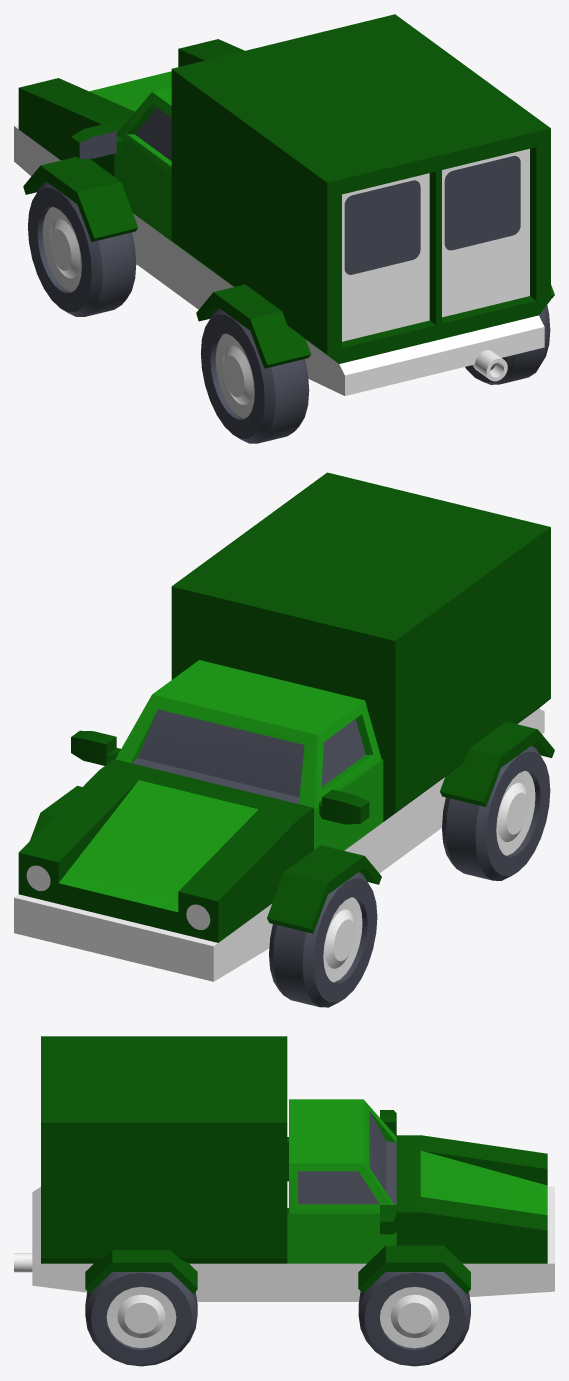
The model's file is Traffic Van Green.fbx.
The picture shows the model from 3 angles, top to bottom: view 1: azimuth 30°, elevation 25°; view 2: azimuth 150°, elevation 25°; view 3: azimuth 270°, elevation 25°; orthographic projection. The views are drawn at different scales.
Parts seen in each view (by area): view 1: trunk_truck_177, windshield_truck_178, wheel_small_182, wheel_small_180, hood_square_147, detail_fenderSquare_179, detail_fenderSquare_181, wheel_small_164, detail_mirror_155, detail_exhaust_168; view 2: trunk_truck_177, hood_square_147, windshield_truck_178, wheel_small_180, wheel_small_182, detail_fenderSquare_179, detail_fenderSquare_181, detail_mirror_155, detail_mirror_156; view 3: trunk_truck_177, hood_square_147, windshield_truck_178, wheel_small_164, wheel_small_166, detail_fenderSquare_165, detail_fenderSquare_163, detail_mirror_156.
Part boxes in pixels (left/top/right/bottom): trunk_truck_177: left=171, top=14, right=550, bottom=395; windshield_truck_178: left=114, top=87, right=229, bottom=309; wheel_small_182: left=200, top=308, right=309, bottom=443; wheel_small_180: left=28, top=181, right=136, bottom=316; hood_square_147: left=14, top=39, right=244, bottom=176; detail_fenderSquare_179: left=23, top=156, right=138, bottom=241; detail_fenderSquare_181: left=196, top=284, right=311, bottom=368; wheel_small_164: left=465, top=305, right=550, bottom=384; detail_mirror_155: left=71, top=123, right=124, bottom=158; detail_exhaust_168: left=472, top=350, right=507, bottom=381; trunk_truck_177: left=171, top=472, right=550, bottom=870; hood_square_147: left=14, top=759, right=313, bottom=981; windshield_truck_178: left=115, top=660, right=429, bottom=873; wheel_small_180: left=269, top=872, right=377, bottom=1007; wheel_small_182: left=442, top=745, right=550, bottom=880; detail_fenderSquare_179: left=267, top=845, right=381, bottom=933; detail_fenderSquare_181: left=440, top=721, right=554, bottom=806; detail_mirror_155: left=319, top=789, right=369, bottom=824; detail_mirror_156: left=71, top=730, right=120, bottom=765; trunk_truck_177: left=32, top=1036, right=287, bottom=1301; hood_square_147: left=396, top=1135, right=554, bottom=1296; windshield_truck_178: left=214, top=1099, right=396, bottom=1301; wheel_small_164: left=85, top=1272, right=197, bottom=1366; wheel_small_166: left=358, top=1272, right=470, bottom=1366; detail_fenderSquare_165: left=358, top=1245, right=470, bottom=1293; detail_fenderSquare_163: left=85, top=1250, right=197, bottom=1293; detail_mirror_156: left=380, top=1205, right=396, bottom=1234.
Size of the model in its own units: 14.5 by 14.22 by 29.7.
